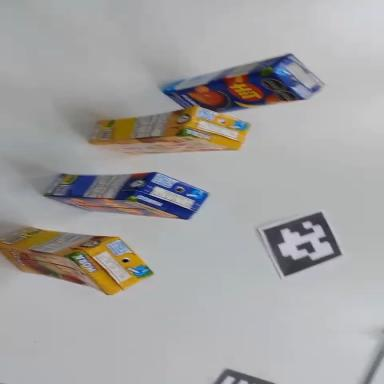HIT-MANGO: (159, 49, 325, 124), (45, 170, 209, 220)
HIT-MORA: (0, 224, 156, 299), (89, 104, 250, 155)
cara_F: (163, 64, 304, 123), (0, 242, 113, 294), (46, 196, 186, 219), (92, 133, 234, 155)
